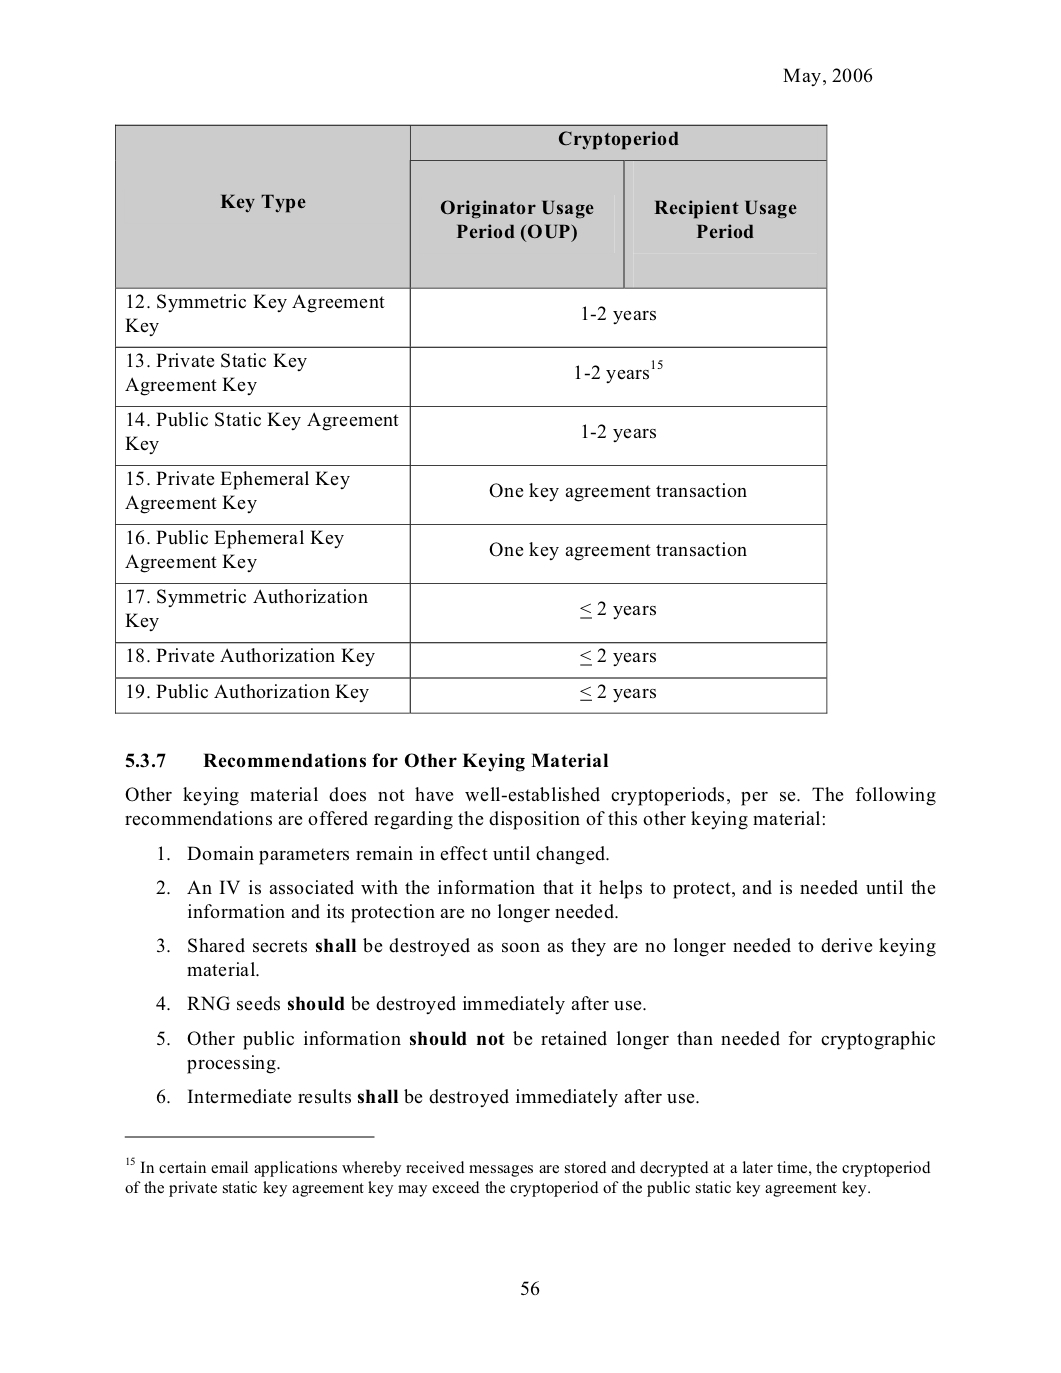Table: (115, 121, 827, 714)
